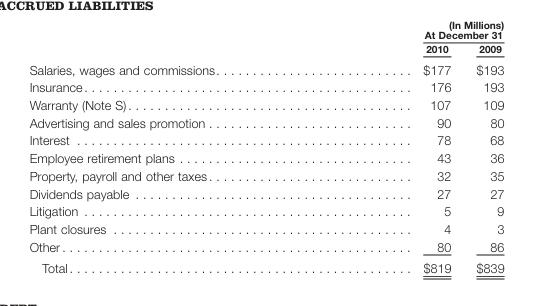table: (28, 28, 503, 274)
table column: (28, 28, 320, 274), (320, 28, 463, 274), (463, 28, 503, 274)
table column header: (28, 28, 503, 58)
table row: (28, 236, 503, 256), (28, 58, 503, 77), (28, 77, 503, 95), (28, 95, 503, 113), (28, 130, 503, 148), (28, 148, 503, 166), (28, 183, 503, 201), (28, 201, 503, 219), (28, 256, 503, 274), (28, 41, 503, 58), (28, 113, 503, 130), (28, 166, 503, 183), (28, 219, 503, 236), (28, 28, 503, 41)
table spanning cell: (320, 28, 503, 41)
